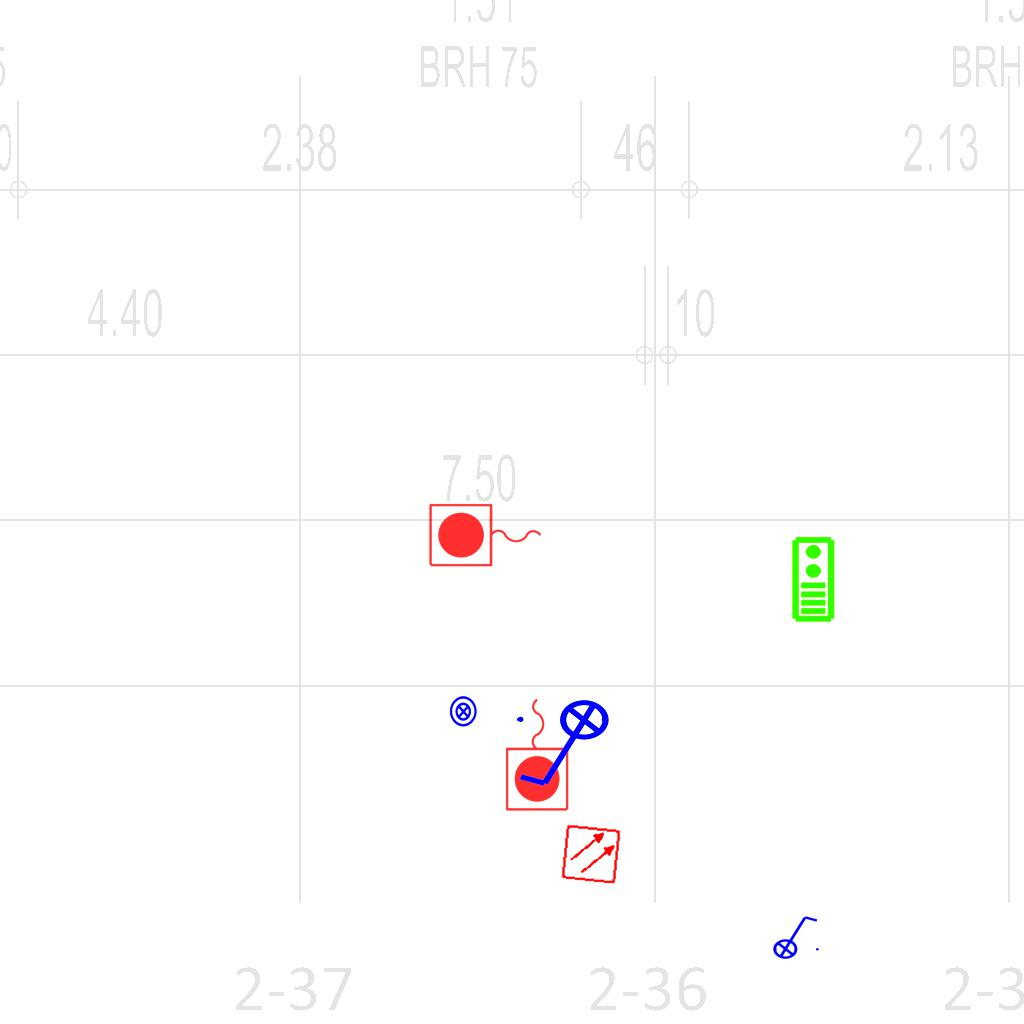Ausschalter_beleuchtet: (511, 698, 623, 794), (766, 912, 822, 960)
Gegensprechanlage_mit_Video: (789, 535, 836, 623)
RMO_Rauchmelder_optischer: (560, 823, 622, 885)
Taster_beleuchtet: (447, 695, 480, 728)
Zugtaster: (425, 500, 547, 572), (502, 693, 574, 815)
